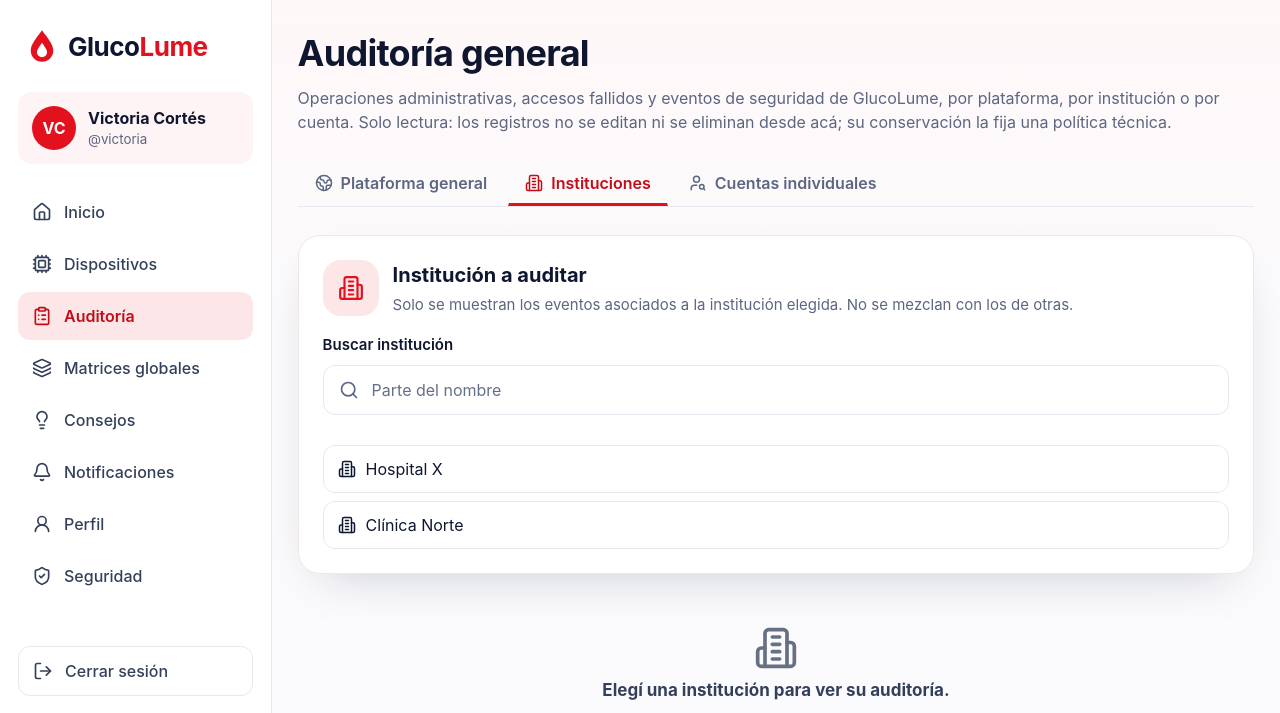
Ámbito Instituciones › elegida una institución, pide solo sus eventos, oculta el selector de otras y distingue a la administración
Step 1. Click the button "Hospital X" → [404, 469], box [323,445,1229,493]
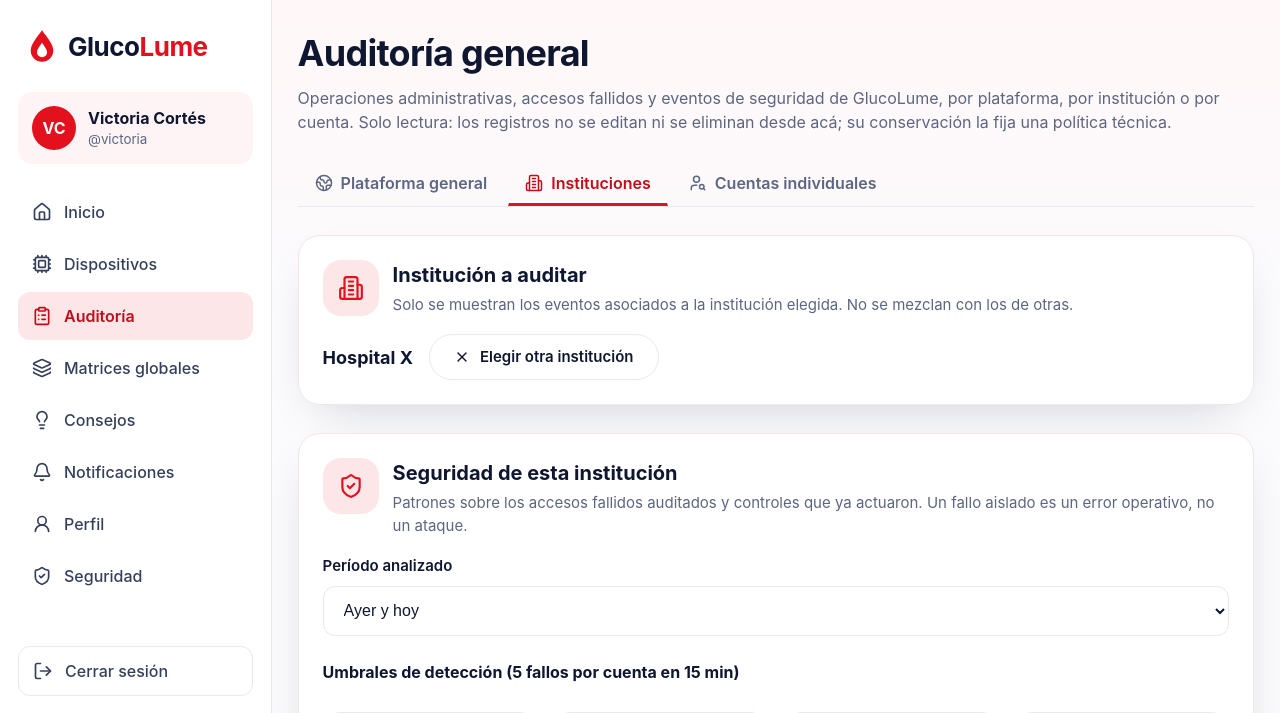
Expected: the text "Hospital X" is shown, [323,344,413,371]
Expected: the heading "Seguridad de esta institución" is shown, [393,461,678,485]
Step 2. Click the button "Elegir otra institución" → [544, 357], box [429,334,659,380]
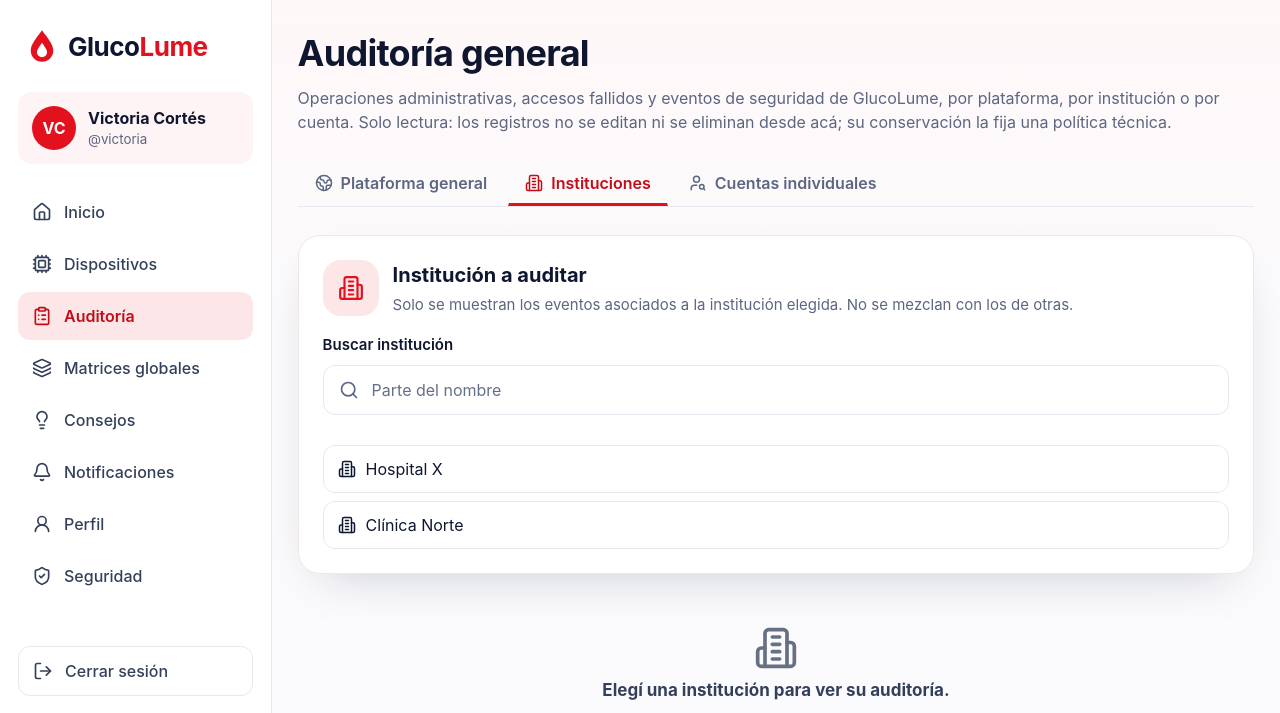
Expected: the heading "Elegí una institución para ver su auditoría." is shown, [602,678,950,703]
